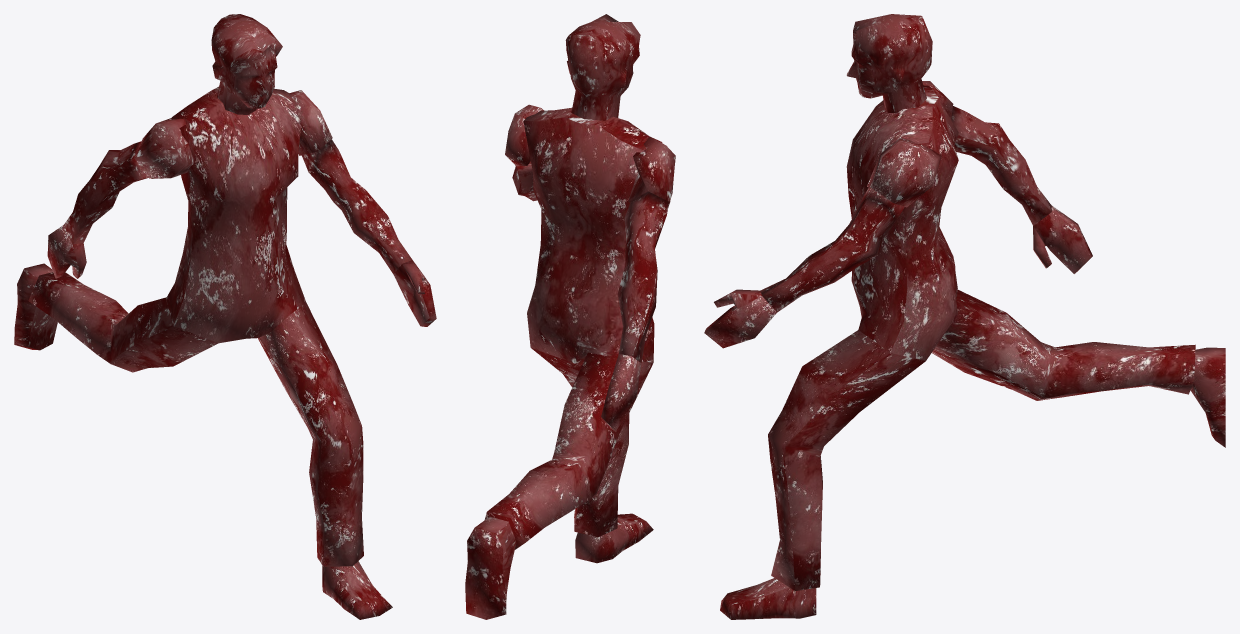
File: walk2.fbx
The picture shows the model from 3 angles, left to right: view 1: azimuth 30°, elevation 25°; view 2: azimuth 150°, elevation 25°; view 3: azimuth 270°, elevation 25°; orthographic projection. The views are drawn at different scales.
Visible parts, largest first — view 1: walk2; view 2: walk2; view 3: walk2.
Part boxes in pixels (x1,y1,x2,y2): walk2: (14,14,436,619); walk2: (465,14,675,619); walk2: (704,14,1225,619).
Bounding box in the file's own units: 74.27 × 179 × 149.
